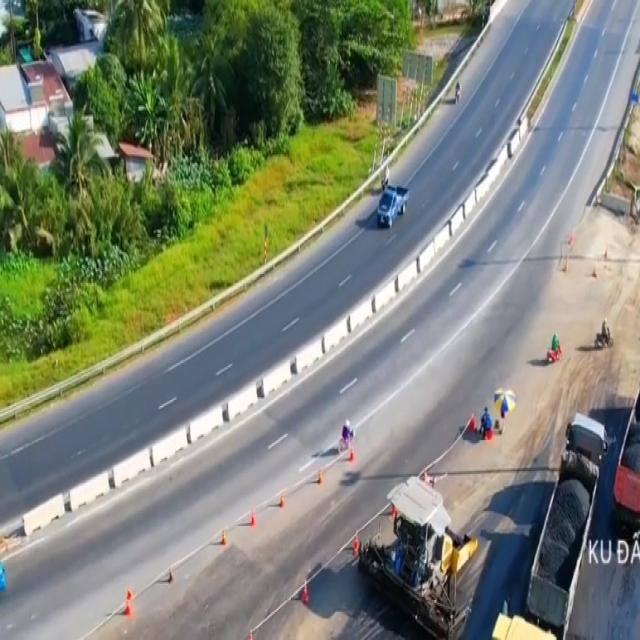motorbike: (594, 322, 612, 350), (547, 333, 562, 364)
truck: (376, 181, 412, 230)
